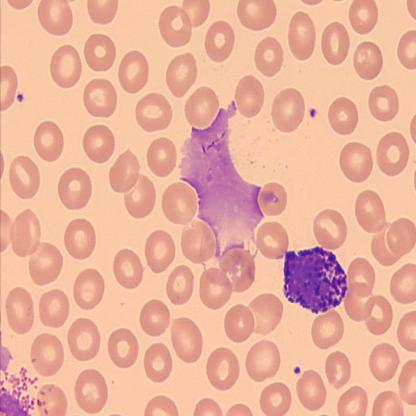Basophil: (280, 242, 349, 316)
